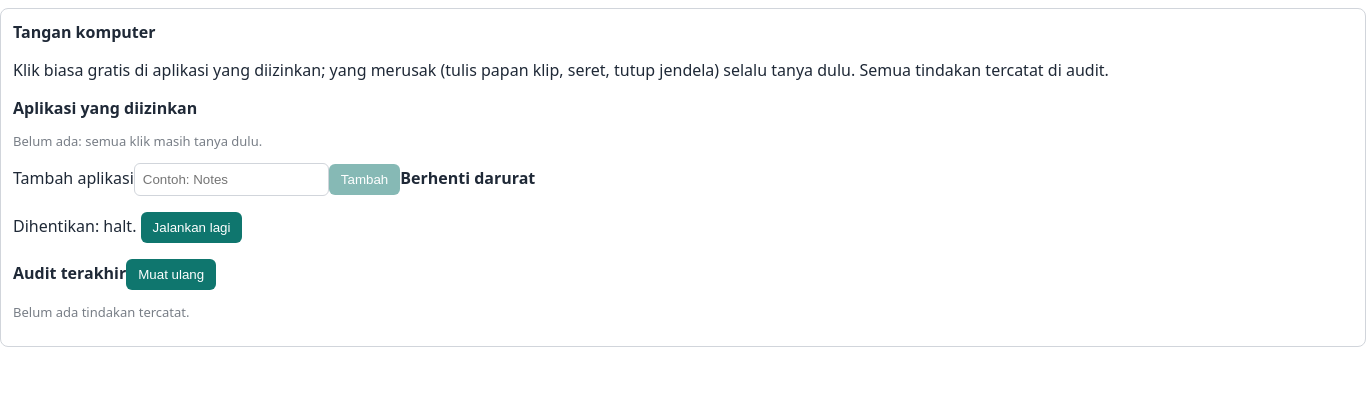
Test: ComputerPanel › resumes the hands from the stopped state
The image size is (1366, 402).
Click the button "Jalankan lagi": point(192, 228) [141,212,242,243]
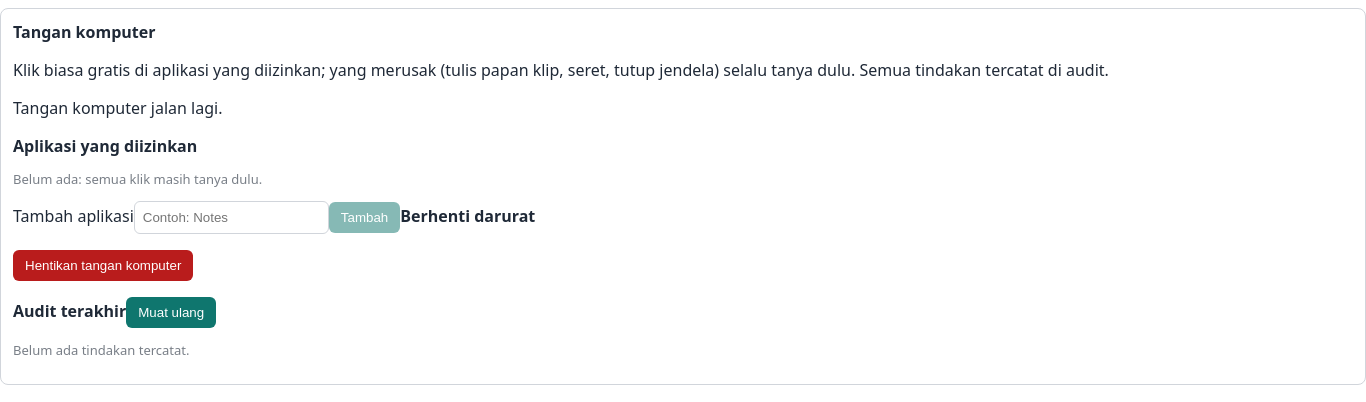
Result: the text "Tangan komputer jalan lagi." is shown at [13,97,222,119]
